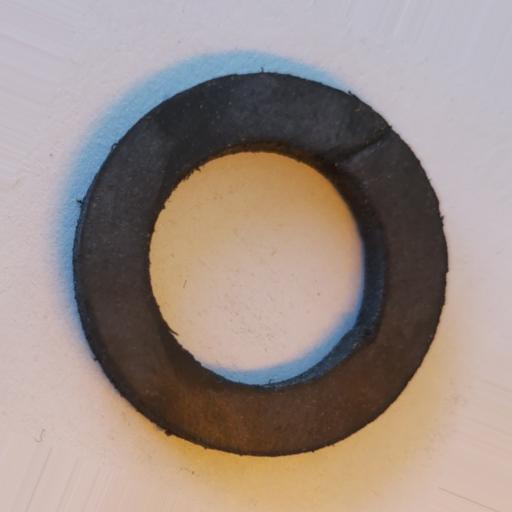defect: (324, 127, 396, 173)
